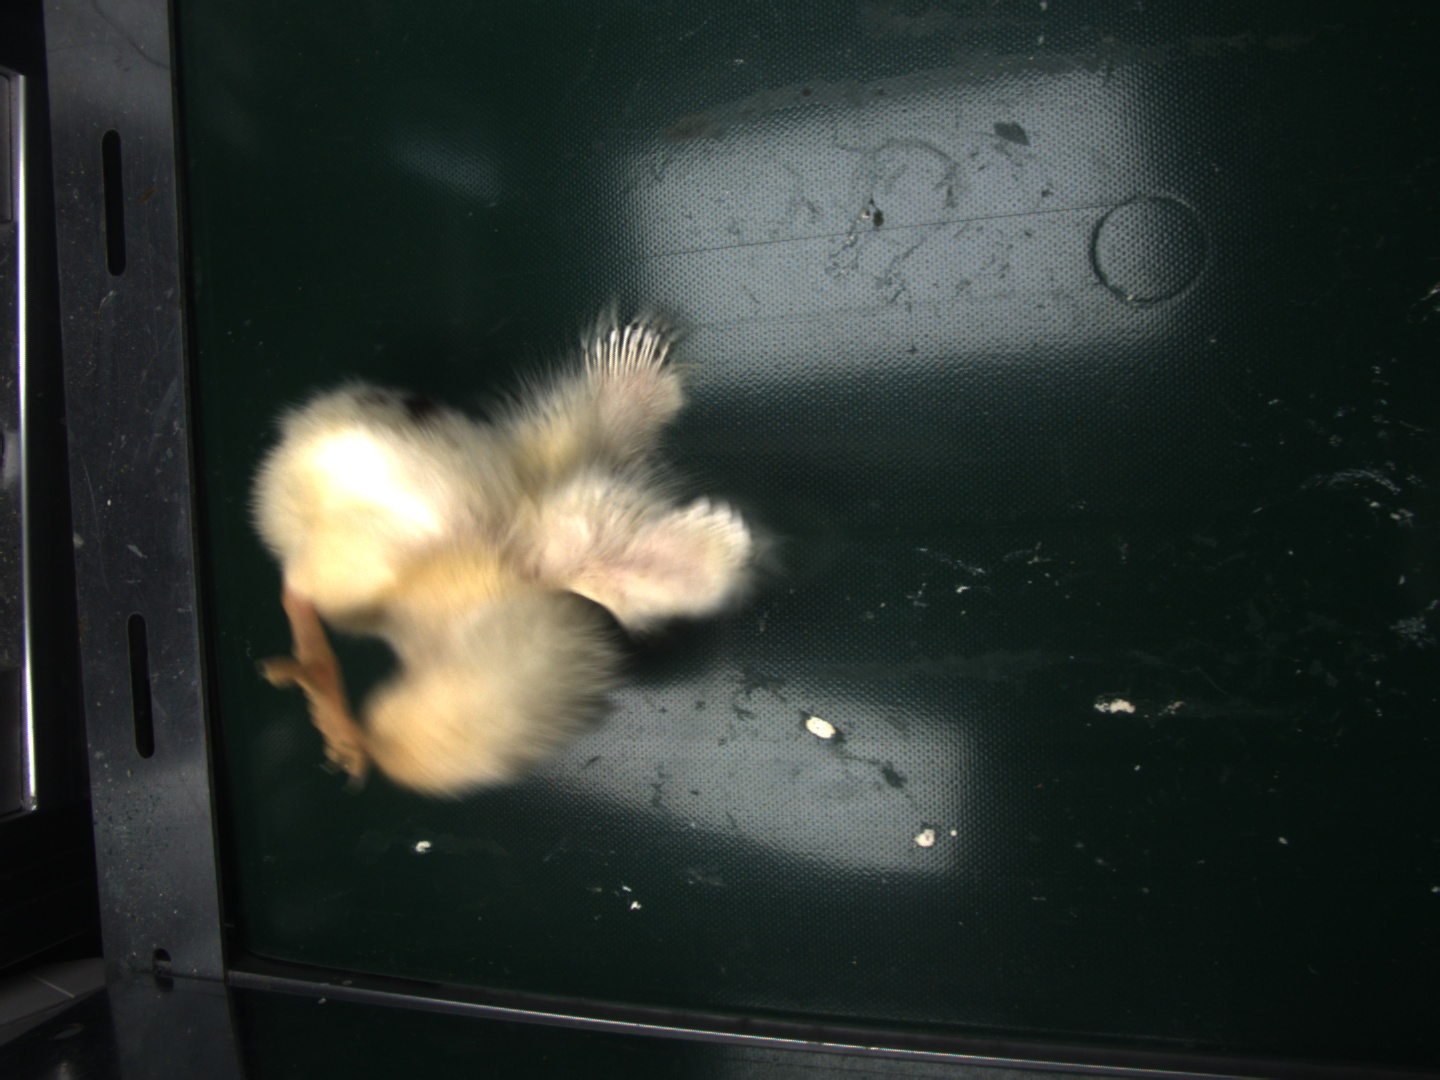male: (582, 326, 669, 382)
